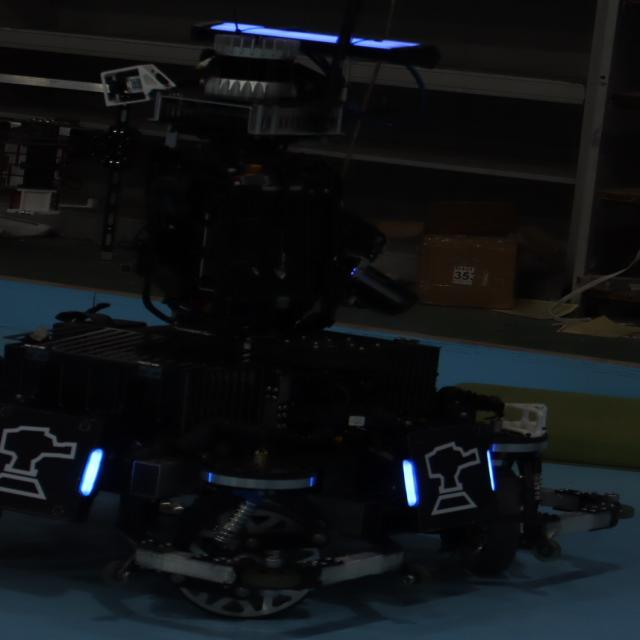Bs: (1, 421, 115, 509), (402, 436, 498, 516)
